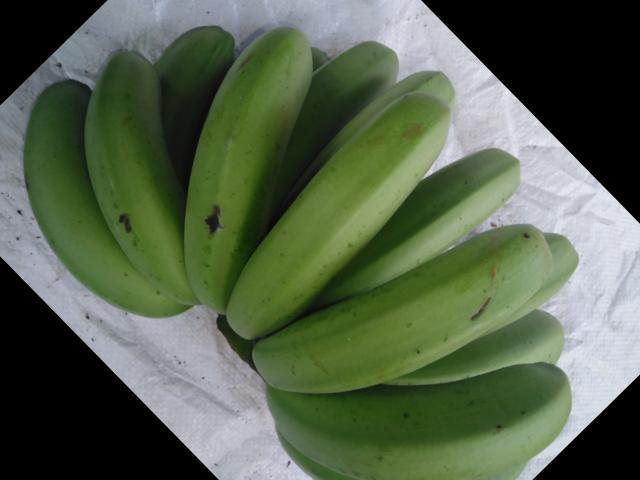freshunripe: (232, 81, 468, 332), (247, 218, 573, 389), (243, 354, 605, 473), (176, 17, 310, 311), (9, 71, 171, 312), (77, 26, 179, 279), (405, 134, 537, 243), (292, 29, 411, 124)
